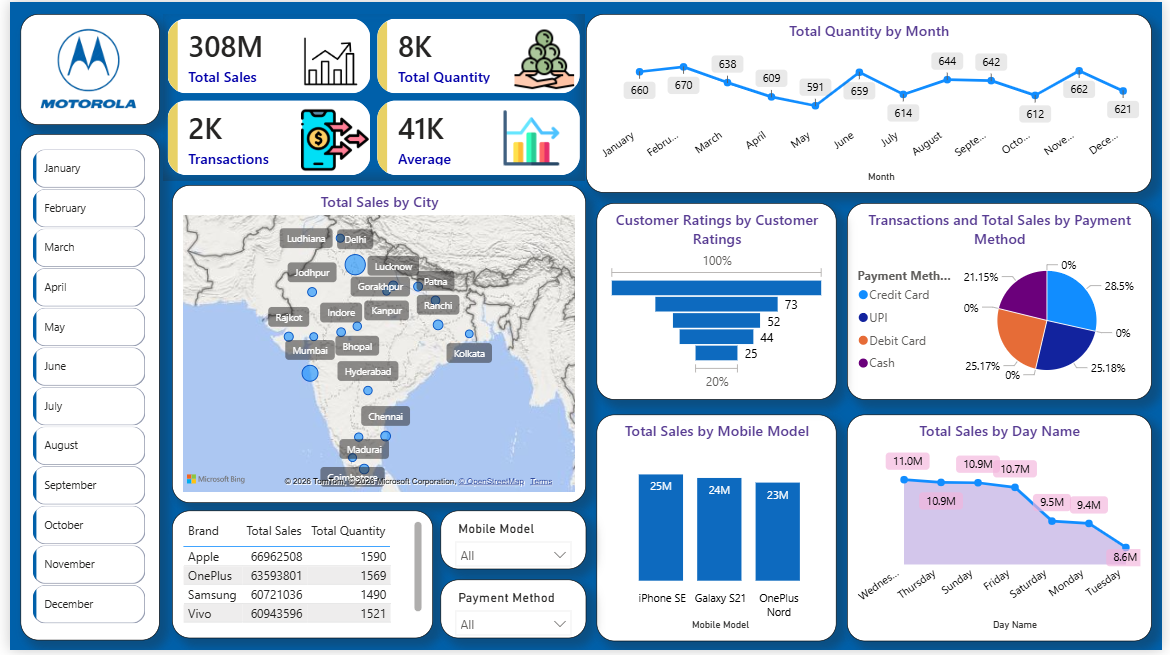

The dashboard page shown, as its layout file describes it:
{"tool":"powerbi","page":{"name":"Page 1","canvas":[1280,720],"ordinal":0},"visuals":[{"type":"shape","box":[10.9,12.5,154.7,123.5],"z":0},{"type":"shape","box":[10.9,146.9,154.7,562.7],"z":1000},{"type":"image","box":[31.3,14.1,111,123.5],"z":2000},{"type":"advancedSlicerVisual","fields":{"Values":["Sales_Data.Date.Variation.Date Hierarchy.Month"]},"box":[20.3,157.9,136,540.8],"z":3000},{"type":"cardVisual","fields":{"Data":["Sales_Data.Total_Sales","Sales_Data.Total Quantity","Sales_Data.Transactions","Sales_Data.Average"]},"box":[170,13.3,468.3,185],"z":4000},{"type":"image","box":[315.7,28.1,82.8,75],"z":5000},{"type":"image","box":[548.6,28.1,90.7,70.3],"z":6000},{"type":"image","box":[323.3,103.3,75,100],"z":7000},{"type":"image","box":[548.3,115,61.7,71.7],"z":8000},{"type":"map","fields":{"Category":["Sales_Data.City"],"Size":["Sales_Data.Total Sales"]},"box":[180,203.3,460,353.3],"z":9000},{"type":"lineChart","fields":{"Y":["Sales_Data.Total Quantity"],"Category":["Sales_Data.Date.Variation.Date Hierarchy.Month","Sales_Data.Date.Variation.Date Hierarchy.Day"]},"box":[640,13.3,628.3,198.3],"z":10000},{"type":"clusteredColumnChart","fields":{"Category":["Sales_Data.Mobile Model"],"Y":["Sales_Data.Total Sales"]},"box":[651.7,458.3,266.7,251.7],"z":11000},{"type":"pieChart","fields":{"Category":["Sales_Data.Payment Method"],"Y":["Sales_Data.Transactions","Sales_Data.Total Sales"]},"box":[930,223.3,338.3,218.3],"z":12000},{"type":"funnel","title":"Customer Ratings by Customer Ratings","fields":{"Category":["Sales_Data.Customer Ratings"],"Y":["CountNonNull(Sales_Data.Customer Ratings)"]},"box":[651.7,223.3,266.7,218.3],"z":13000},{"type":"areaChart","fields":{"Category":["Sales_Data.Day Name"],"Y":["Sales_Data.Total Sales"]},"box":[930,458.3,338.3,251.7],"z":14000},{"type":"tableEx","fields":{"Values":["Sales_Data.Brand","Sales_Data.Total Sales","Sales_Data.Total Quantity"]},"box":[180,565,290,141.7],"z":15000},{"type":"slicer","fields":{"Values":["Sales_Data.Mobile Model"]},"box":[478.3,565,161.7,65],"z":15001},{"type":"slicer","fields":{"Values":["Sales_Data.Payment Method"]},"box":[478.3,641.7,161.7,65],"z":15002}]}

Visuals, with their boxes in screenshot pixels (x1, y1, x2, y2), scaled from the page's 1280x720 canvas onto the 1170x655 screenshot:
shape: {"left": 10, "top": 11, "right": 151, "bottom": 124}
shape: {"left": 10, "top": 134, "right": 151, "bottom": 646}
image: {"left": 29, "top": 13, "right": 130, "bottom": 125}
advancedSlicerVisual - Sales_Data.Date.Variation.Date Hierarchy.Month: {"left": 19, "top": 144, "right": 143, "bottom": 636}
cardVisual - Sales_Data.Total_Sales x Sales_Data.Total Quantity: {"left": 155, "top": 12, "right": 583, "bottom": 180}
image: {"left": 289, "top": 26, "right": 364, "bottom": 94}
image: {"left": 501, "top": 26, "right": 584, "bottom": 90}
image: {"left": 296, "top": 94, "right": 364, "bottom": 185}
image: {"left": 501, "top": 105, "right": 558, "bottom": 170}
map - Sales_Data.City x Sales_Data.Total Sales: {"left": 165, "top": 185, "right": 585, "bottom": 506}
lineChart - Sales_Data.Total Quantity x Sales_Data.Date.Variation.Date Hierarchy.Month: {"left": 585, "top": 12, "right": 1159, "bottom": 192}
clusteredColumnChart - Sales_Data.Mobile Model x Sales_Data.Total Sales: {"left": 596, "top": 417, "right": 839, "bottom": 646}
pieChart - Sales_Data.Payment Method x Sales_Data.Transactions: {"left": 850, "top": 203, "right": 1159, "bottom": 402}
"Customer Ratings by Customer Ratings" funnel: {"left": 596, "top": 203, "right": 839, "bottom": 402}
areaChart - Sales_Data.Day Name x Sales_Data.Total Sales: {"left": 850, "top": 417, "right": 1159, "bottom": 646}
tableEx - Sales_Data.Brand x Sales_Data.Total Sales: {"left": 165, "top": 514, "right": 430, "bottom": 643}
slicer - Sales_Data.Mobile Model: {"left": 437, "top": 514, "right": 585, "bottom": 573}
slicer - Sales_Data.Payment Method: {"left": 437, "top": 584, "right": 585, "bottom": 643}
